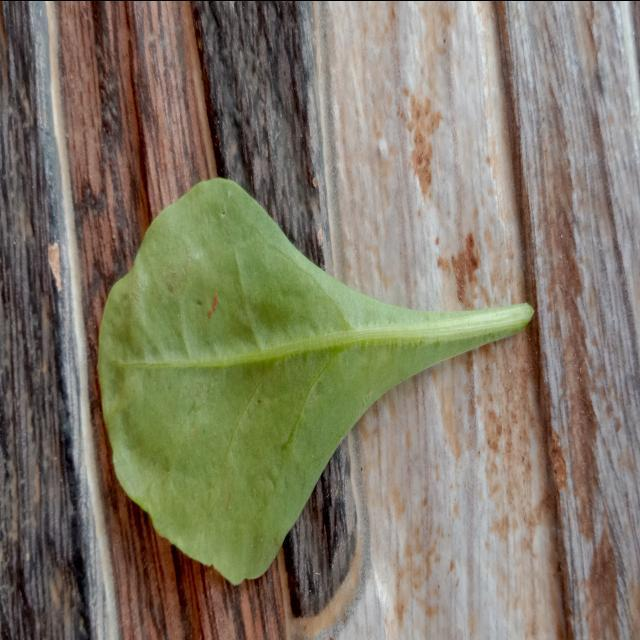leaf: (95, 175, 534, 586)
